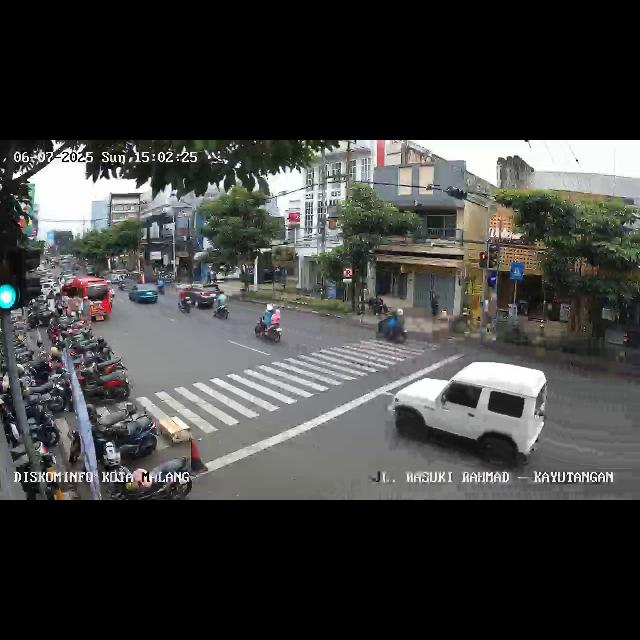car: (389, 356, 546, 470), (61, 276, 112, 324), (177, 282, 223, 310), (127, 282, 161, 306)
motorcycle: (254, 302, 282, 346), (377, 308, 407, 346), (212, 288, 230, 324)
